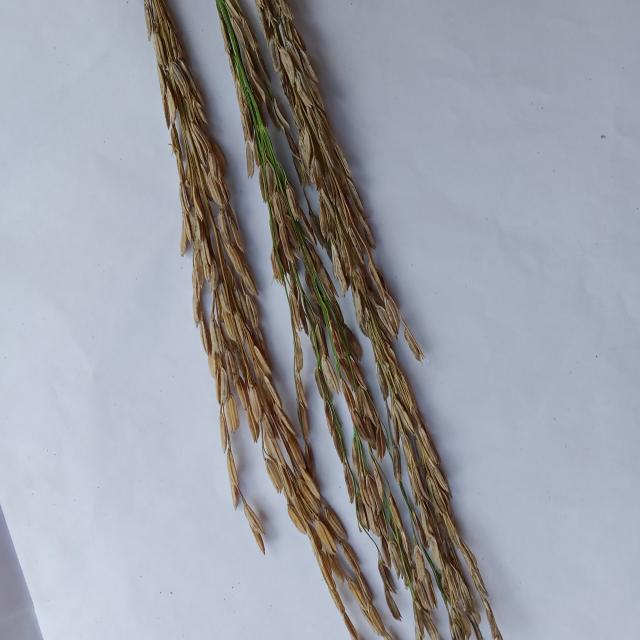Neck_Blast: (144, 6, 431, 640), (255, 0, 524, 639), (247, 191, 415, 596)
